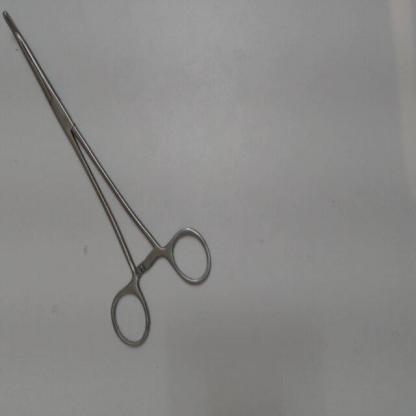Lahey Forceps: (0, 3, 220, 356)
